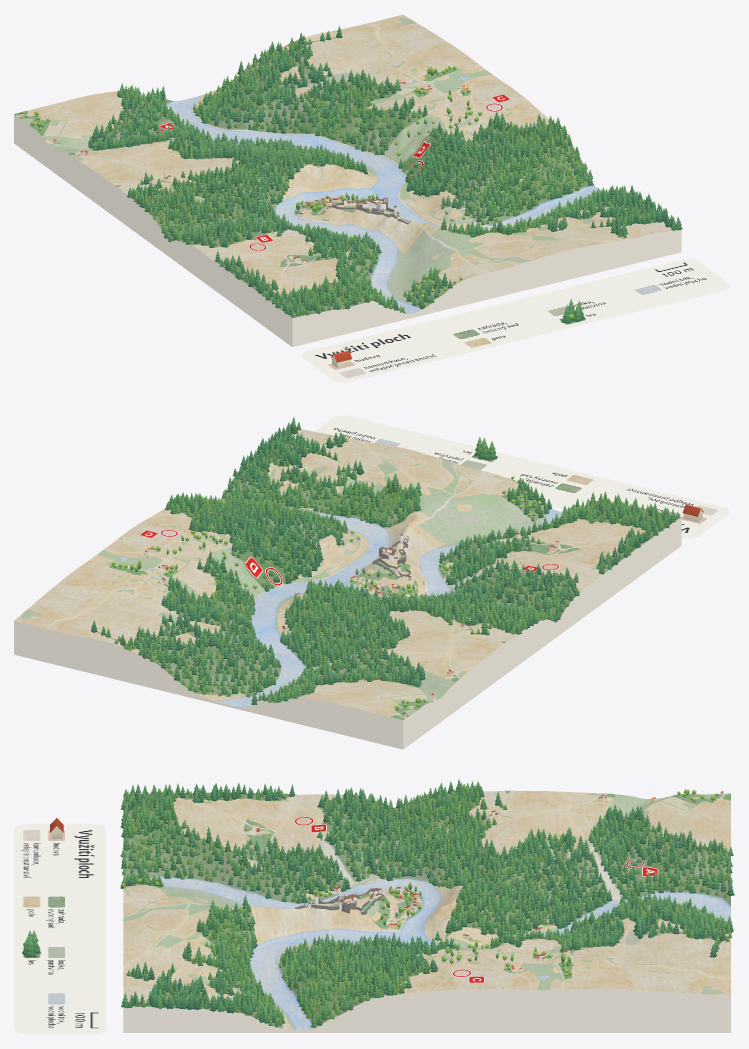
Rendered from Zvikov_sada1_CO.glb.
3 renders of one model, top to bottom at view 1: azimuth 30°, elevation 25°; view 2: azimuth 150°, elevation 25°; view 3: azimuth 270°, elevation 25°, orthographic. The views are drawn at different scales.
Parts seen in each view (by area): view 1: DMR_1953, Zvikov_stromy_body, legenda_panel, Node0, legenda_objekty; view 2: DMR_1953, Zvikov_stromy_body, legenda_panel, Node0, legenda_objekty; view 3: DMR_1953, Zvikov_stromy_body, legenda_panel, Node0, Budovy_vyber_—_co_final_all_dissolve_budovy, legenda_objekty.
Part boxes in pixels (x1=…): DMR_1953: x1=14, y1=14, x2=681, y2=346; Zvikov_stromy_body: x1=24, y1=26, x2=682, y2=317; legenda_panel: x1=302, y1=259, x2=729, y2=382; Node0: x1=326, y1=198, x2=410, y2=224; legenda_objekty: x1=331, y1=298, x2=585, y2=367; DMR_1953: x1=14, y1=429, x2=681, y2=749; Zvikov_stromy_body: x1=91, y1=417, x2=680, y2=713; legenda_panel: x1=314, y1=415, x2=729, y2=538; Node0: x1=372, y1=533, x2=411, y2=580; legenda_objekty: x1=474, y1=436, x2=703, y2=522; DMR_1953: x1=123, y1=790, x2=730, y2=1032; Zvikov_stromy_body: x1=120, y1=778, x2=734, y2=1027; legenda_panel: x1=14, y1=823, x2=105, y2=1034; Node0: x1=294, y1=888, x2=384, y2=914; Budovy_vyber_—_co_final_all_dissolve_budovy: x1=245, y1=791, x2=723, y2=972; legenda_objekty: x1=22, y1=818, x2=63, y2=957.
Size of the model in its own units: 1490 by 181 by 2153.
10 materials, 6 textured.
